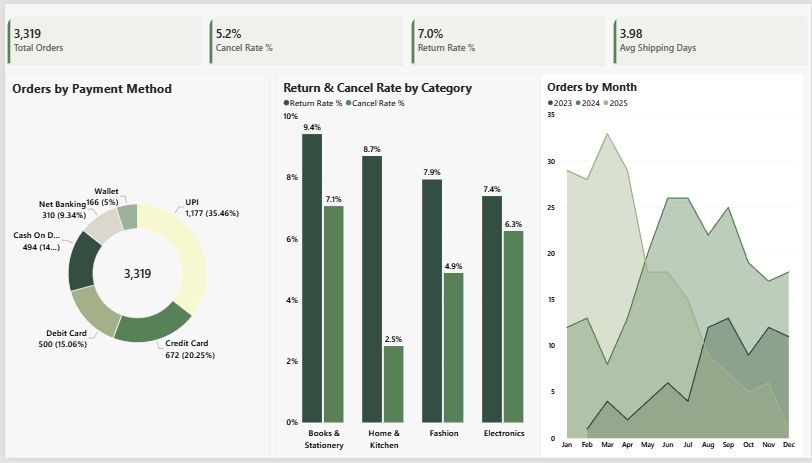

What the dashboard file says about the page in this screenshot:
{"tool":"powerbi","page":{"name":"Orders & Payments","canvas":[1920,1080],"ordinal":3},"visuals":[{"type":"cardVisual","fields":{"Data":["_Measures.Total Orders","_Measures.Cancel Rate %","_Measures.Return Rate %","_Measures.Avg Shipping Days"]},"box":[0,21.4,1919,126.2],"z":0},{"type":"donutChart","title":"Orders by Payment Method","fields":{"Category":["orders.PaymentMethod"],"Y":["_Measures.Total Orders"]},"box":[0,163.3,631,916.7],"z":1000},{"type":"clusteredColumnChart","title":"Return & Cancel Rate by Category","fields":{"Category":["products.Category"],"Y":["_Measures.Return Rate %","_Measures.Cancel Rate %"]},"box":[645.2,164.3,628.6,916.7],"z":2000},{"type":"lineChart","title":"Orders by Month","fields":{"Category":["Date.Month"],"Series":["Date.Year"],"Y":["_Measures.Total Orders"]},"box":[1273.8,164.3,628.6,916.7],"z":3000}]}

Visuals, with their boxes in screenshot pixels (x1, y1, x2, y2), scaled from the page's 1920x1080 canvas onto the 812x463 screenshot:
cardVisual - _Measures.Total Orders x _Measures.Cancel Rate %: 0/9/811/63
"Orders by Payment Method" donutChart: 0/70/267/462
"Return & Cancel Rate by Category" clusteredColumnChart: 273/70/539/462
"Orders by Month" lineChart: 539/70/805/462
